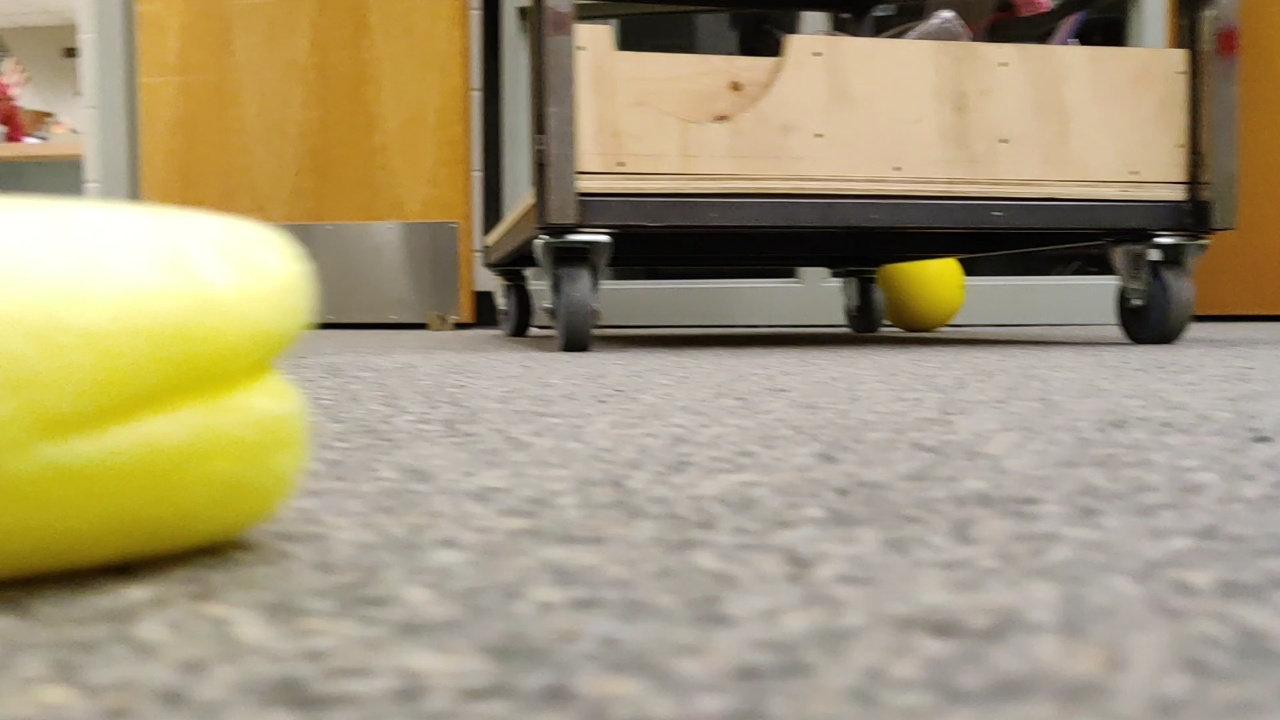Ball: (875, 259, 973, 332)
